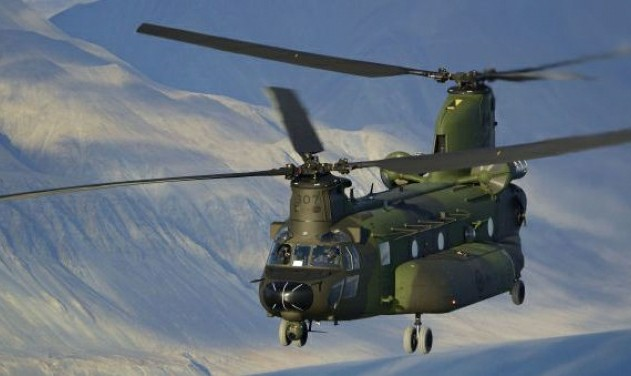chinook: (181, 75, 604, 356)
